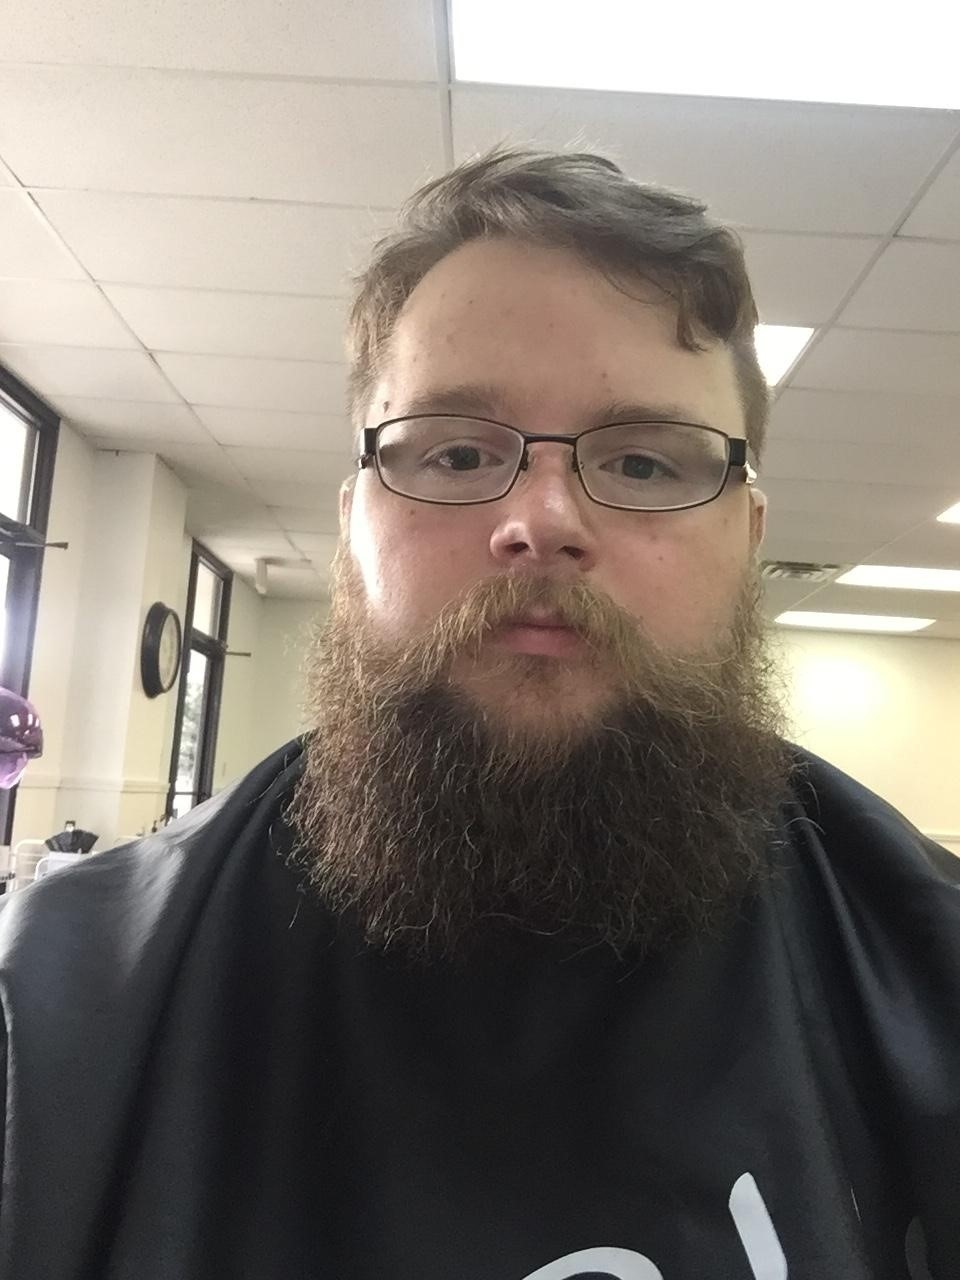face_no_mask: (324, 215, 768, 846)
